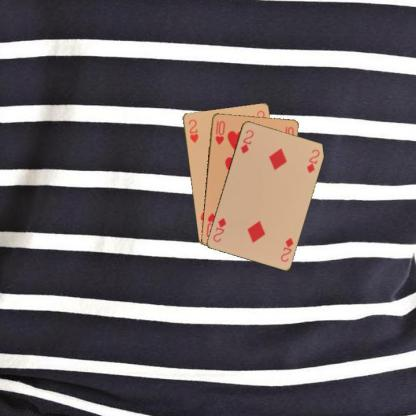10h: (213, 118, 226, 145)
2d: (237, 127, 255, 155), (278, 234, 295, 263)
2h: (186, 117, 199, 144)
